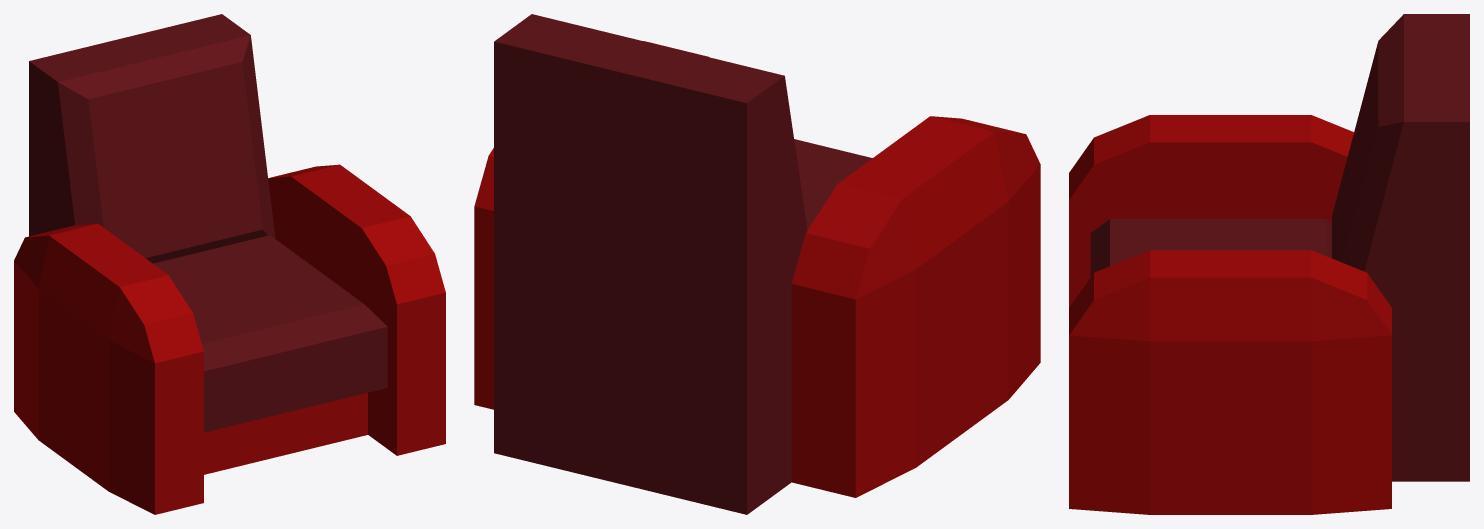
The model's file is g_o_SofaChair_02.fbx.
3 renders of one model, left to right at view 1: azimuth 30°, elevation 25°; view 2: azimuth 150°, elevation 25°; view 3: azimuth 270°, elevation 25°, orthographic. The views are drawn at different scales.
Visible parts, largest first — view 1: g_o_SofaChair_02; view 2: g_o_SofaChair_02; view 3: g_o_SofaChair_02.
Part boxes in pixels (x1=…): g_o_SofaChair_02: x1=14, y1=14, x2=445, y2=514; g_o_SofaChair_02: x1=474, y1=14, x2=1040, y2=514; g_o_SofaChair_02: x1=1069, y1=14, x2=1469, y2=514.
Bounding box in the file's own units: 78.4 × 75.25 × 75.97.
